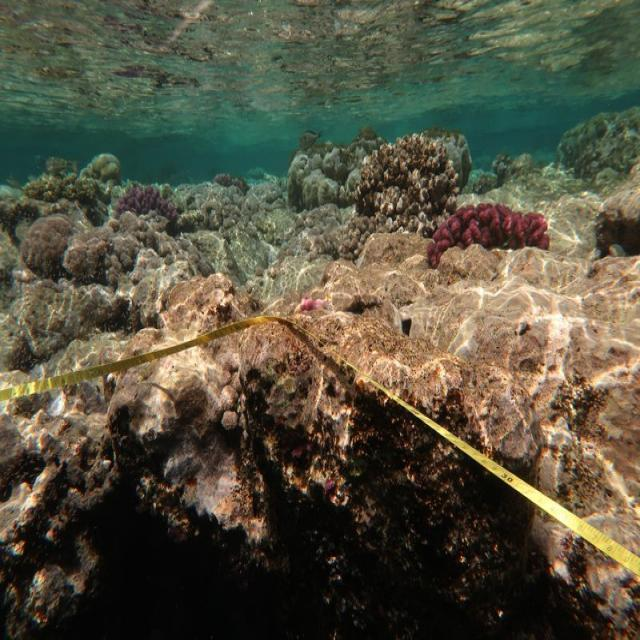Healthy Coral: (428, 200, 550, 262), (116, 182, 184, 232)
